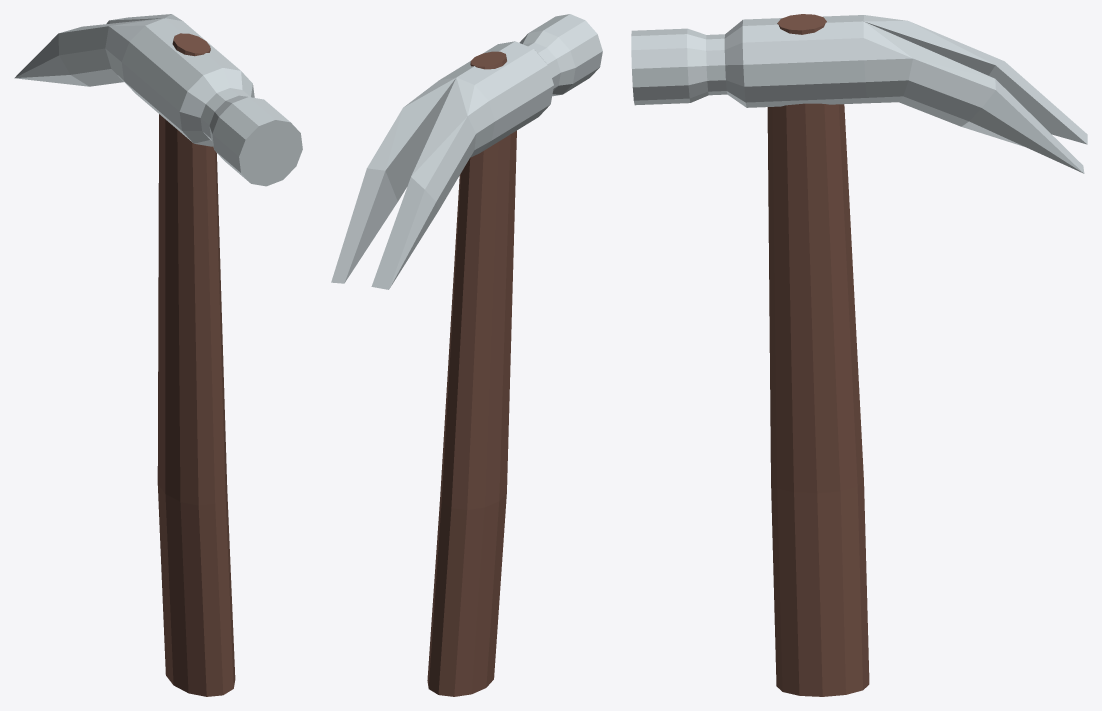
File: hammer.fbx
3 renders of one model, left to right at view 1: azimuth 30°, elevation 25°; view 2: azimuth 150°, elevation 25°; view 3: azimuth 270°, elevation 25°, orthographic. The views are drawn at different scales.
Visible parts, largest first — view 1: group_634296461; view 2: group_634296461; view 3: group_634296461.
Boxes of the visible parts, x1,y1,x2,y2 form: group_634296461: [14, 14, 302, 696]; group_634296461: [331, 14, 602, 696]; group_634296461: [631, 14, 1087, 696].
Size of the model in its own units: 4.45 by 32.09 by 20.17.
